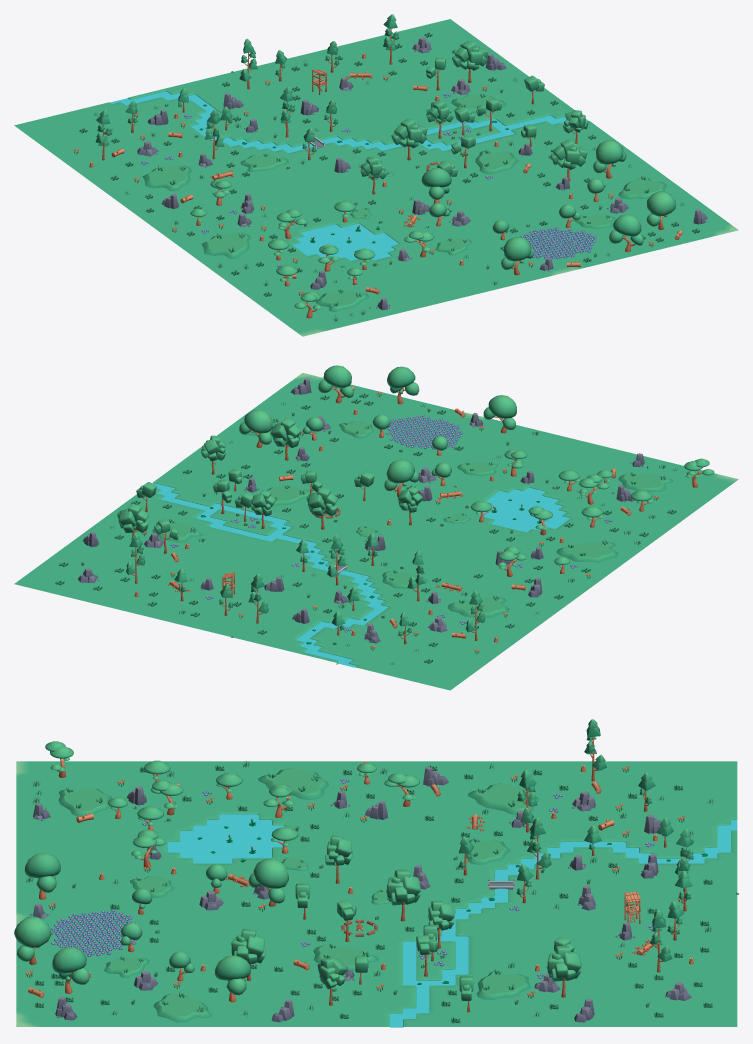
Rendered from Forest-transformed.glb.
The picture shows the model from 3 angles, top to bottom: view 1: azimuth 30°, elevation 25°; view 2: azimuth 150°, elevation 25°; view 3: azimuth 270°, elevation 25°; orthographic projection. The views are drawn at different scales.
Parts seen in each view (by area): view 1: square_water_detail2, Group18, patch-grass-foliage14, patch-grass-foliage11, Tree_1_C_Color14, Tree_2_E_Color1, Tree_2_E_Color15, Tree_2_E_Color14, Tree_1_C_Color1, Tree_1_C_Color17, patch-grass-foliage4, Tree_1_C_Color15 (+4 smaller); view 2: square_water_detail2, Group18, patch-grass-foliage14, Tree_1_C_Color15, patch-grass-foliage11, Tree_1_C_Color17, Tree_1_C_Color1, Tree_1_C_Color16, patch-grass-foliage4, Tree_1_C_Color14, Tree_2_E_Color14, Tree_2_E_Color1 (+3 smaller); view 3: square_water_detail2, Group18, patch-grass-foliage14, patch-grass-foliage11, Tree_1_C_Color16, patch-grass-foliage16, Tree_1_C_Color14, patch-grass-foliage8, patch-grass-foliage4, Tree_1_C_Color15, Tree_1_C_Color17, Tree_2_E_Color14 (+20 smaller).
Boxes of the visible parts, bbox=[...] form: square_water_detail2: bbox=[14, 19, 738, 336]; Group18: bbox=[520, 227, 596, 259]; patch-grass-foliage14: bbox=[201, 232, 250, 258]; patch-grass-foliage11: bbox=[142, 165, 191, 191]; Tree_1_C_Color14: bbox=[609, 214, 643, 251]; Tree_2_E_Color1: bbox=[551, 140, 587, 181]; Tree_2_E_Color15: bbox=[452, 41, 488, 82]; Tree_2_E_Color14: bbox=[391, 118, 427, 160]; Tree_1_C_Color1: bbox=[501, 237, 533, 275]; Tree_1_C_Color17: bbox=[593, 140, 625, 178]; patch-grass-foliage4: bbox=[315, 288, 368, 311]; Tree_1_C_Color15: bbox=[646, 191, 675, 229]; square_water_detail2: bbox=[14, 373, 738, 690]; Group18: bbox=[385, 415, 462, 449]; patch-grass-foliage14: bbox=[556, 539, 618, 562]; Tree_1_C_Color15: bbox=[318, 365, 353, 403]; patch-grass-foliage11: bbox=[447, 595, 509, 617]; Tree_1_C_Color17: bbox=[239, 409, 272, 447]; Tree_1_C_Color1: bbox=[483, 395, 516, 433]; Tree_1_C_Color16: bbox=[384, 459, 418, 497]; patch-grass-foliage4: bbox=[618, 472, 673, 491]; Tree_1_C_Color14: bbox=[387, 366, 419, 404]; Tree_2_E_Color14: bbox=[306, 487, 338, 529]; Tree_2_E_Color1: bbox=[270, 418, 301, 460]; square_water_detail2: bbox=[16, 761, 737, 1027]; Group18: bbox=[51, 909, 142, 956]; patch-grass-foliage14: bbox=[258, 768, 328, 799]; patch-grass-foliage11: bbox=[468, 783, 538, 814]; Tree_1_C_Color16: bbox=[248, 859, 288, 906]; patch-grass-foliage16: bbox=[476, 969, 531, 999]; Tree_1_C_Color14: bbox=[14, 916, 51, 964]; patch-grass-foliage8: bbox=[153, 991, 212, 1022]; patch-grass-foliage4: bbox=[58, 787, 111, 816]; Tree_1_C_Color15: bbox=[52, 947, 89, 993]; Tree_1_C_Color17: bbox=[214, 955, 250, 1002]; Tree_2_E_Color14: bbox=[386, 869, 420, 921].
Bounding box in the file's own units: 96 × 10.88 × 111.
13 materials, 9 textured.
